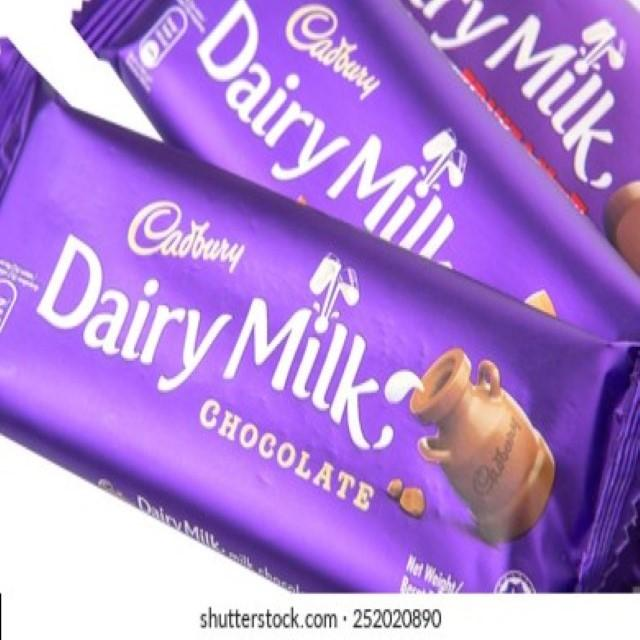cadbury_chocolate: (12, 100, 615, 592), (66, 23, 640, 498)
